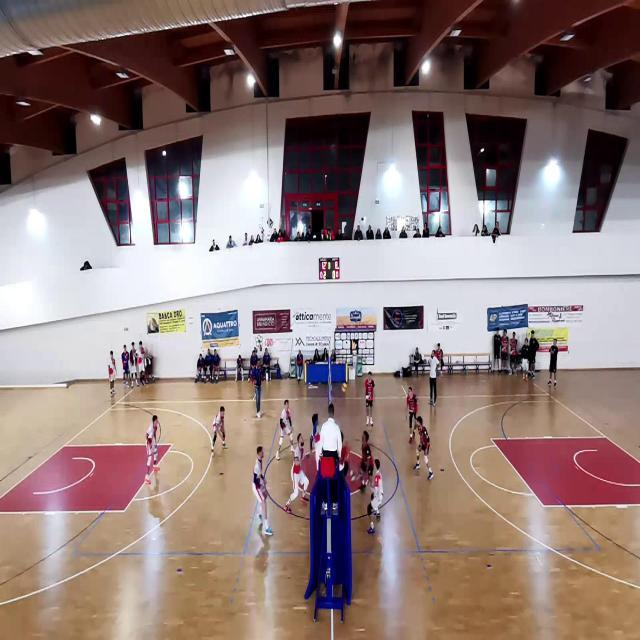volleyball: (342, 383, 348, 392)
